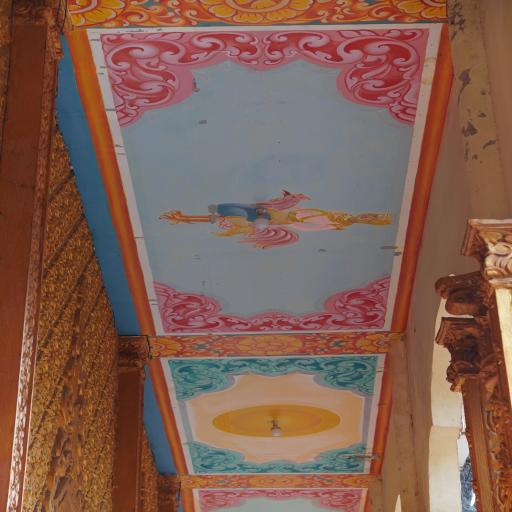hoa: (200, 0, 314, 23), (67, 0, 125, 25), (238, 335, 303, 356), (391, 0, 450, 20), (357, 333, 403, 353), (148, 336, 182, 358), (248, 474, 304, 487), (299, 335, 333, 355), (344, 475, 376, 489), (178, 474, 205, 490)
la: (99, 32, 267, 133), (260, 30, 428, 128), (275, 277, 392, 333), (152, 279, 274, 332), (271, 355, 378, 398), (168, 358, 272, 399), (186, 440, 281, 475), (280, 440, 366, 474), (280, 488, 366, 512), (334, 3, 416, 25), (196, 490, 278, 512), (125, 0, 190, 26), (155, 0, 215, 21), (302, 0, 360, 21), (117, 336, 150, 372), (210, 335, 247, 355), (316, 345, 367, 354), (181, 347, 225, 357), (178, 335, 219, 345), (321, 332, 367, 340), (227, 475, 253, 489), (297, 475, 324, 488), (205, 481, 241, 490), (323, 481, 352, 489), (318, 474, 356, 480), (204, 474, 236, 480)
than: (152, 188, 396, 245)
